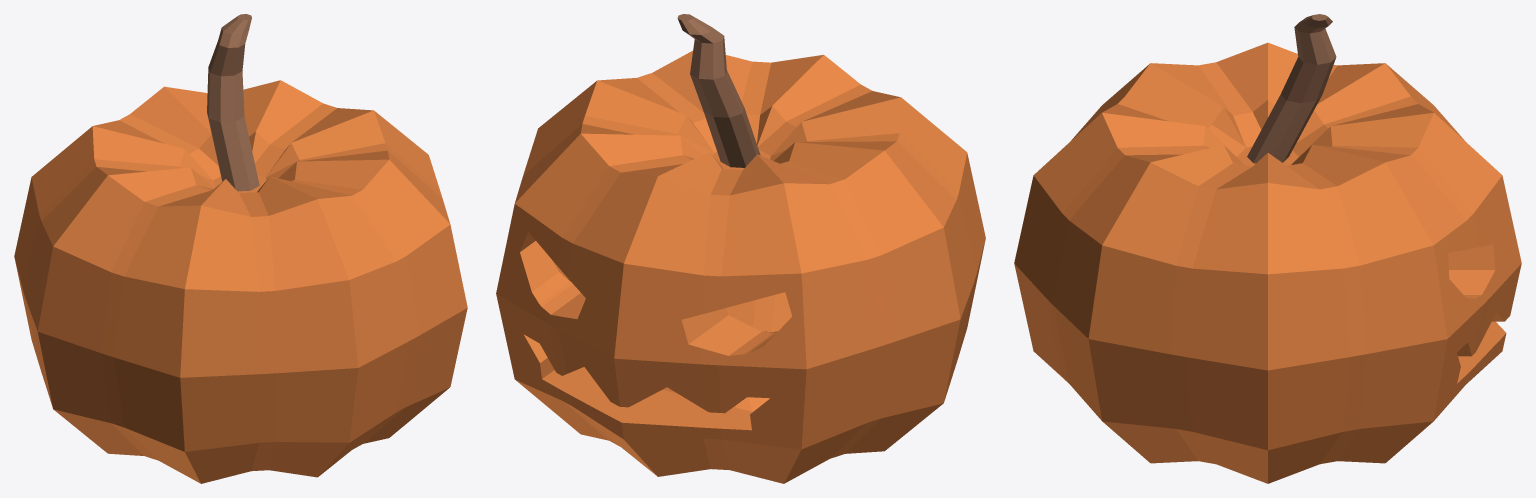
The model's file is halloween_pumpkin_low_poly.glb.
3 renders of one model, left to right at view 1: azimuth 30°, elevation 25°; view 2: azimuth 150°, elevation 25°; view 3: azimuth 270°, elevation 25°, orthographic. The views are drawn at different scales.
Parts seen in each view (by area): view 1: Sphere, Sphere.001; view 2: Sphere, Sphere.001; view 3: Sphere, Sphere.001.
Boxes of the visible parts, <box> form: Sphere: <box>14,80,467,483</box>; Sphere.001: <box>207,14,259,191</box>; Sphere: <box>496,50,985,483</box>; Sphere.001: <box>677,14,760,167</box>; Sphere: <box>1014,42,1521,483</box>; Sphere.001: <box>1247,14,1336,163</box>.
Size of the model in its own units: 2 by 1.79 by 2.
